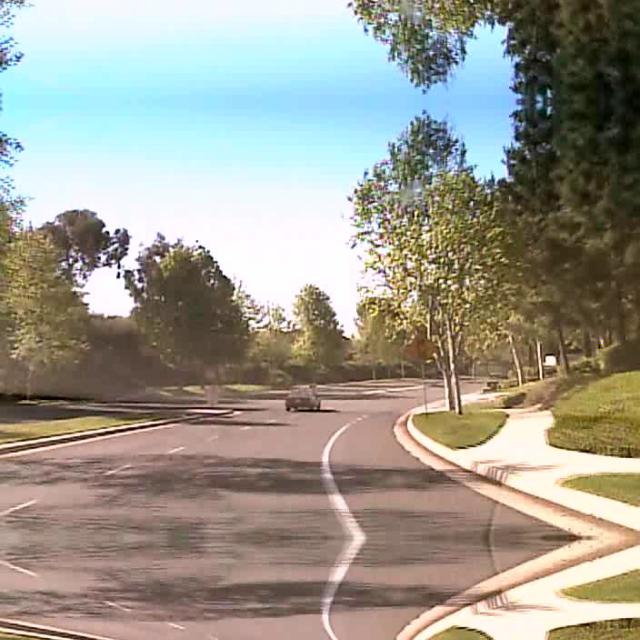signalAhead: (402, 330, 436, 364)
